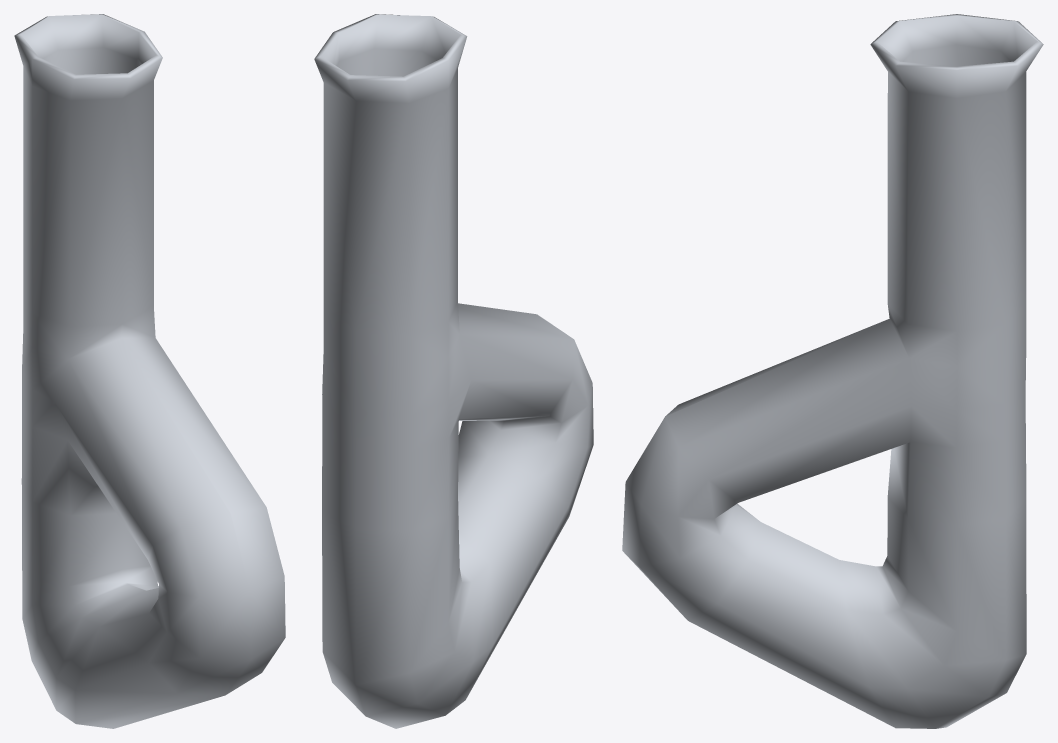
File: bottle_glassware_thiele_tube_003.glb
3 renders of one model, left to right at view 1: azimuth 30°, elevation 25°; view 2: azimuth 150°, elevation 25°; view 3: azimuth 270°, elevation 25°, orthographic. The views are drawn at different scales.
Parts seen in each view (by area): view 1: bottle_glassware_thiele_tube.003; view 2: bottle_glassware_thiele_tube.003; view 3: bottle_glassware_thiele_tube.003.
Boxes of the visible parts, <box> form: bottle_glassware_thiele_tube.003: <box>14,14,285,728</box>; bottle_glassware_thiele_tube.003: <box>314,14,593,728</box>; bottle_glassware_thiele_tube.003: <box>622,14,1043,728</box>.
Size of the model in its own units: 7.44 by 42.25 by 23.53.
1 material, 1 textured.
